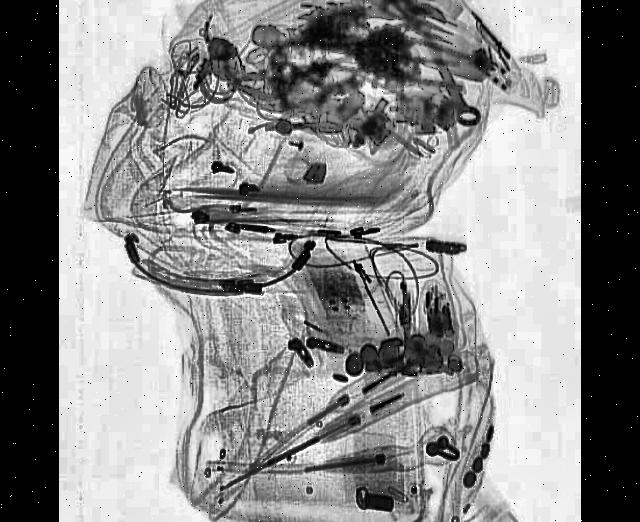Wrench: (382, 0, 483, 139)
